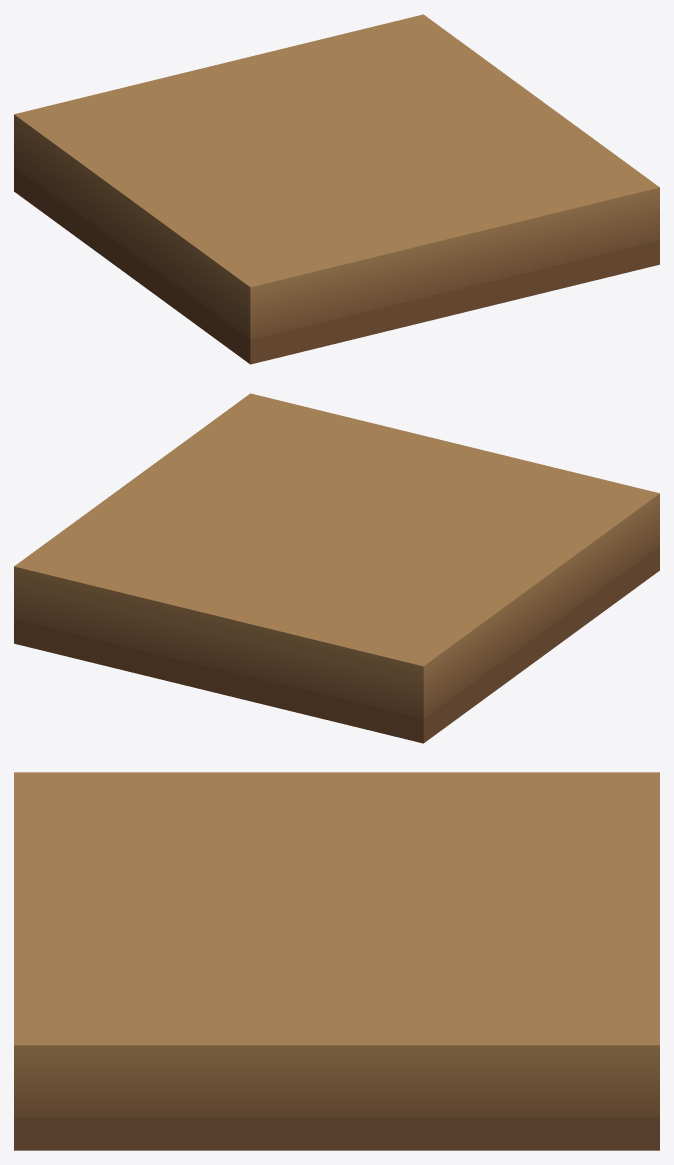
3 renders of one model, top to bottom at view 1: azimuth 30°, elevation 25°; view 2: azimuth 150°, elevation 25°; view 3: azimuth 270°, elevation 25°, orthographic. The views are drawn at different scales.
Visible parts, largest first — view 1: Cube.573; view 2: Cube.573; view 3: Cube.573.
Part boxes in pixels (x1,y1,x2,y2): Cube.573: (14, 14, 659, 364); Cube.573: (14, 393, 659, 743); Cube.573: (14, 772, 659, 1150).
Size of the model in its own units: 157 by 28.24 by 157.
1 material, 1 textured.
